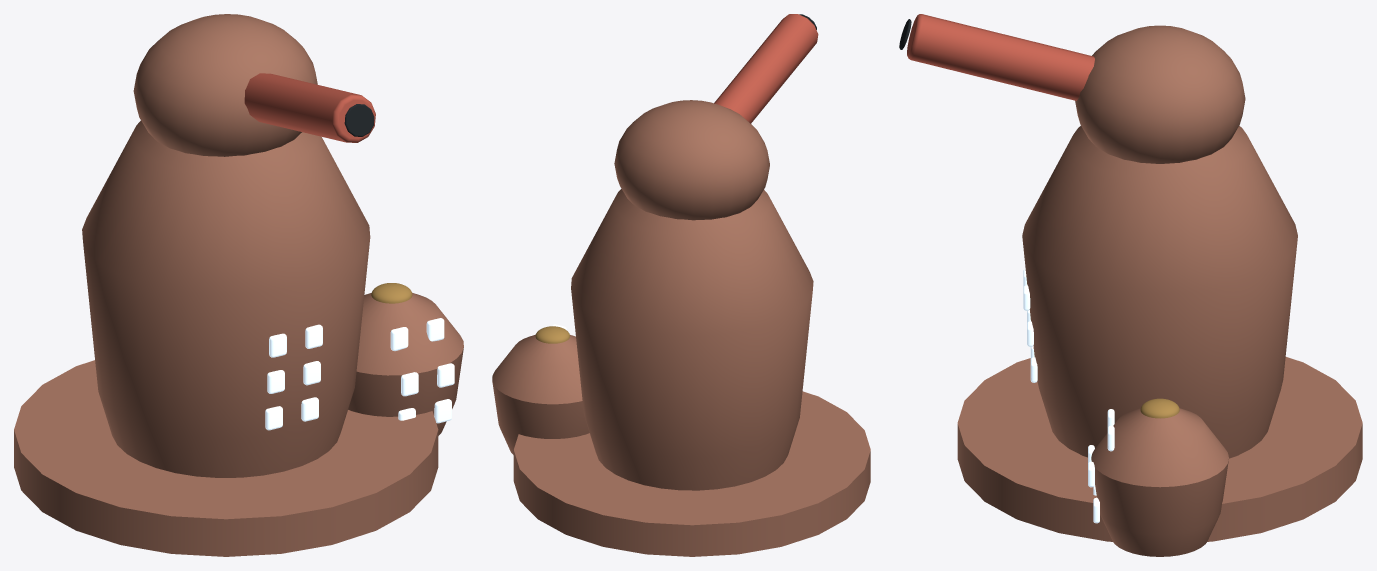
3 views of the same model, side by side, from view 1: azimuth 30°, elevation 25°; view 2: azimuth 150°, elevation 25°; view 3: azimuth 270°, elevation 25° (orthographic). The views are drawn at different scales.
Visible parts, largest first — view 1: Bulb shaped chamber, Foundation drum, Weapon pivot, Bulb shaped chamber.001, Weapon barrel, Weapon dark bore, Tower crown.001; view 2: Bulb shaped chamber, Foundation drum, Weapon pivot, Bulb shaped chamber.001, Weapon barrel, Tower crown.001; view 3: Bulb shaped chamber, Foundation drum, Weapon pivot, Bulb shaped chamber.001, Weapon barrel, Tower crown.001.
Boxes of the visible parts, x1,y1,x2,y2 form: Bulb shaped chamber: (82, 120, 370, 477); Foundation drum: (14, 360, 438, 556); Weapon pivot: (133, 14, 317, 156); Bulb shaped chamber.001: (348, 293, 463, 435); Weapon barrel: (244, 73, 375, 142); Weapon dark bore: (344, 104, 374, 136); Tower crown.001: (371, 283, 412, 303); Bulb shaped chamber: (571, 189, 813, 490); Foundation drum: (513, 391, 870, 556); Weapon pivot: (614, 100, 769, 220); Bulb shaped chamber.001: (492, 334, 589, 454); Weapon barrel: (714, 14, 818, 123); Tower crown.001: (535, 326, 569, 343); Bulb shaped chamber: (1022, 126, 1297, 458); Foundation drum: (957, 357, 1362, 541); Weapon pivot: (1075, 25, 1245, 163); Bulb shaped chamber.001: (1091, 408, 1228, 556); Weapon barrel: (907, 14, 1094, 100); Tower crown.001: (1140, 398, 1179, 418).
Size of the model in its own units: 2.29 by 2.46 by 2.33.
